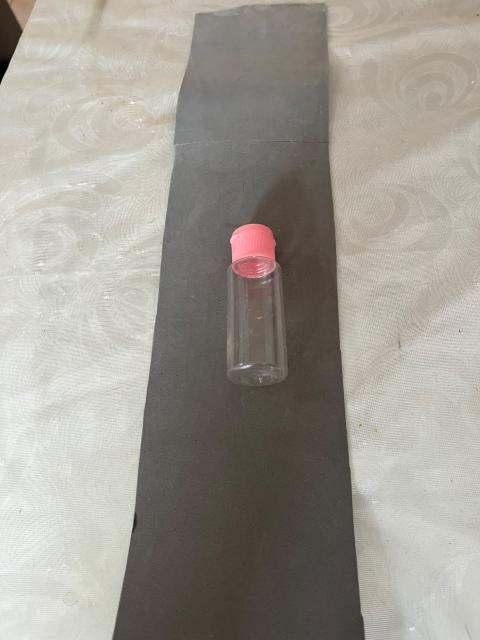PET: (149, 173, 377, 480)
